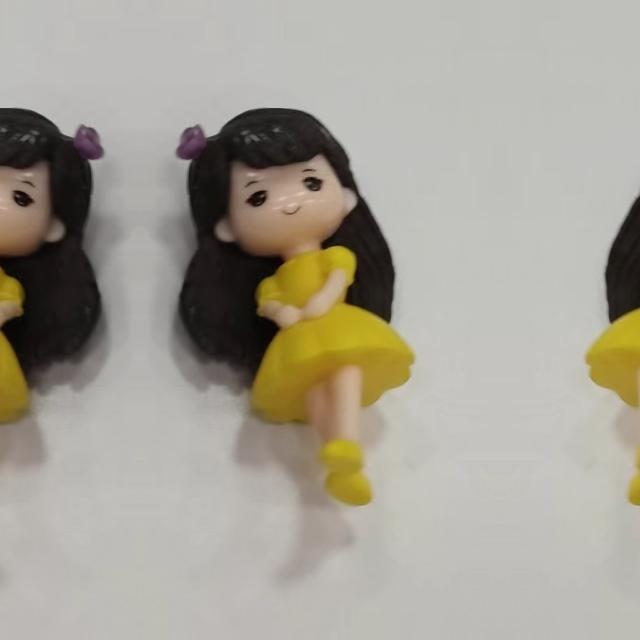woman dress: (264, 232, 412, 524), (588, 232, 640, 523), (0, 232, 16, 523)
woman head: (176, 109, 358, 261), (0, 109, 103, 261)
